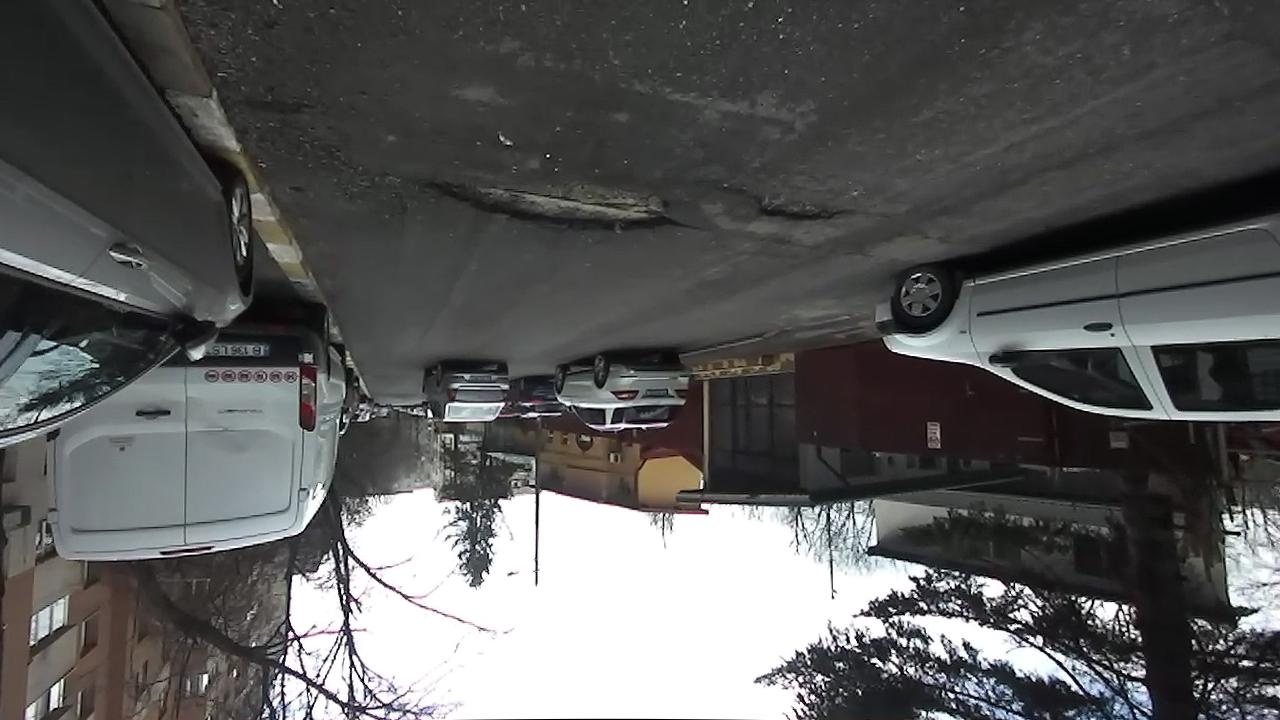pothole: (407, 157, 700, 240), (724, 183, 856, 225)
